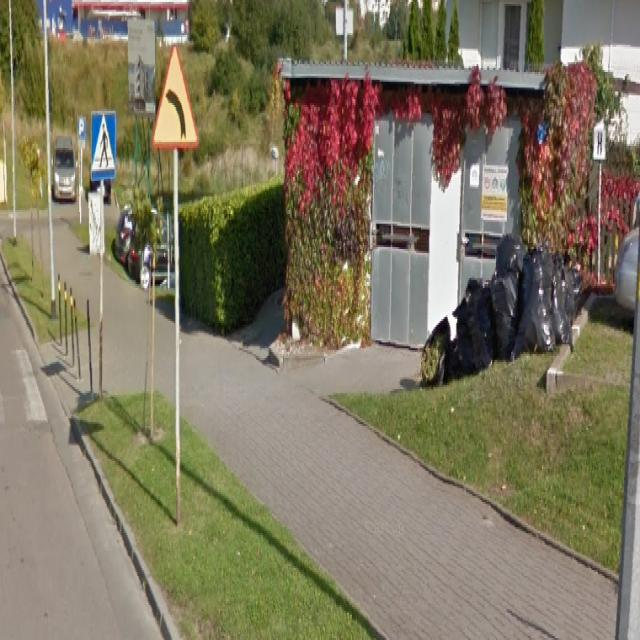Przejscie dla pieszych: (91, 113, 115, 183)
